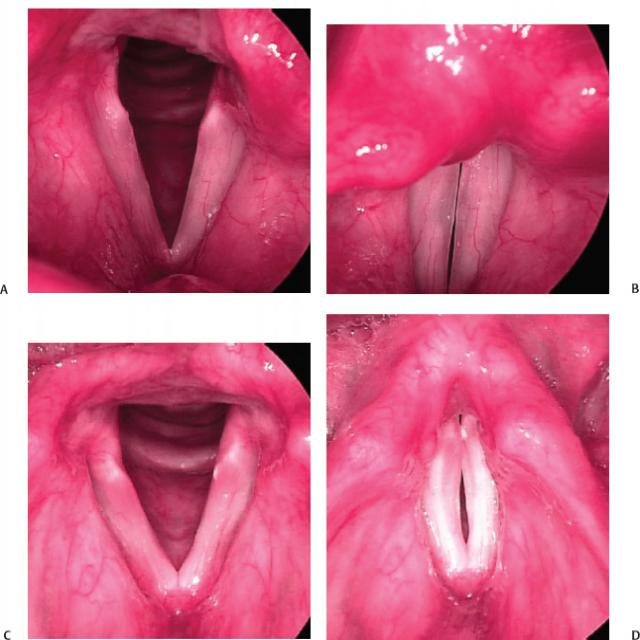arytenoid cartilagerotation: (327, 316, 605, 532), (328, 26, 608, 200), (28, 344, 295, 409)
larynxrotation: (76, 23, 255, 268), (78, 391, 265, 613), (413, 407, 506, 603), (403, 138, 516, 292)
